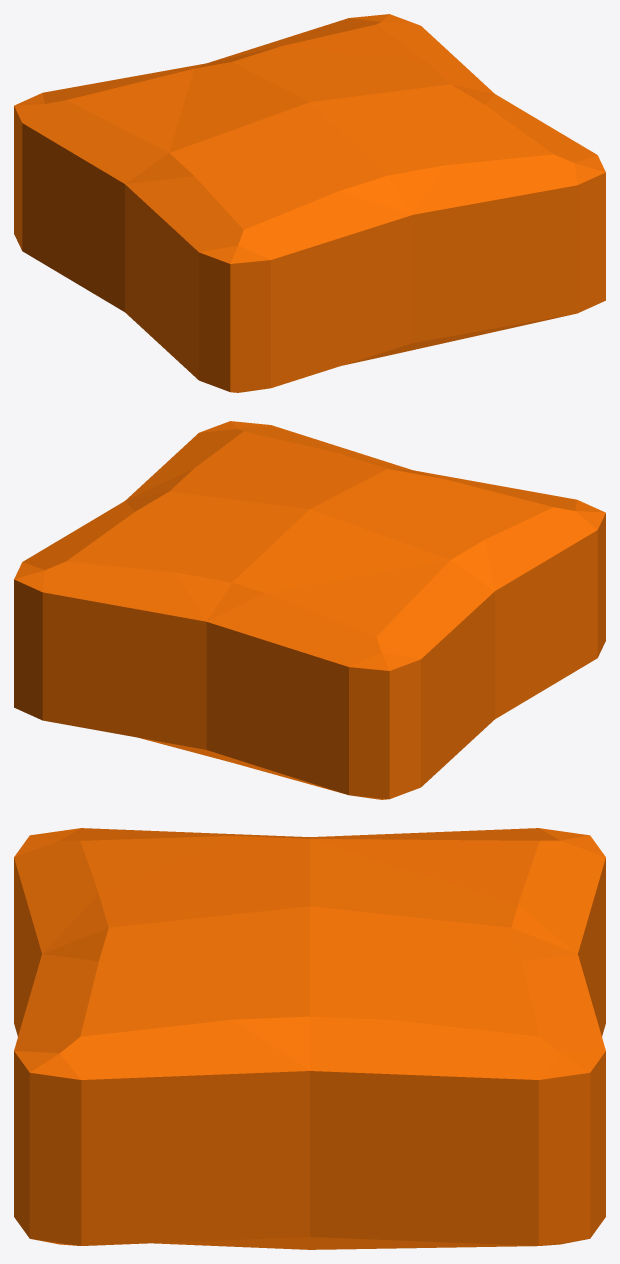
File: Jem_14.fbx
3 renders of one model, top to bottom at view 1: azimuth 30°, elevation 25°; view 2: azimuth 150°, elevation 25°; view 3: azimuth 270°, elevation 25°, orthographic. The views are drawn at different scales.
Parts seen in each view (by area): view 1: Jem_14; view 2: Jem_14; view 3: Jem_14.
Boxes of the visible parts, x1,y1,x2,y2 form: Jem_14: [14, 14, 605, 392]; Jem_14: [14, 421, 605, 799]; Jem_14: [14, 828, 605, 1249].
Bounding box in the file's own units: 39.06 × 19.14 × 38.77.
